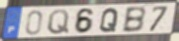0: (25, 10, 44, 36)
6: (72, 7, 97, 35)
7: (148, 5, 170, 32)
B: (121, 6, 147, 34)
Q: (46, 9, 71, 36), (98, 7, 120, 34)
